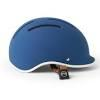helmet: (9, 18, 96, 74)
